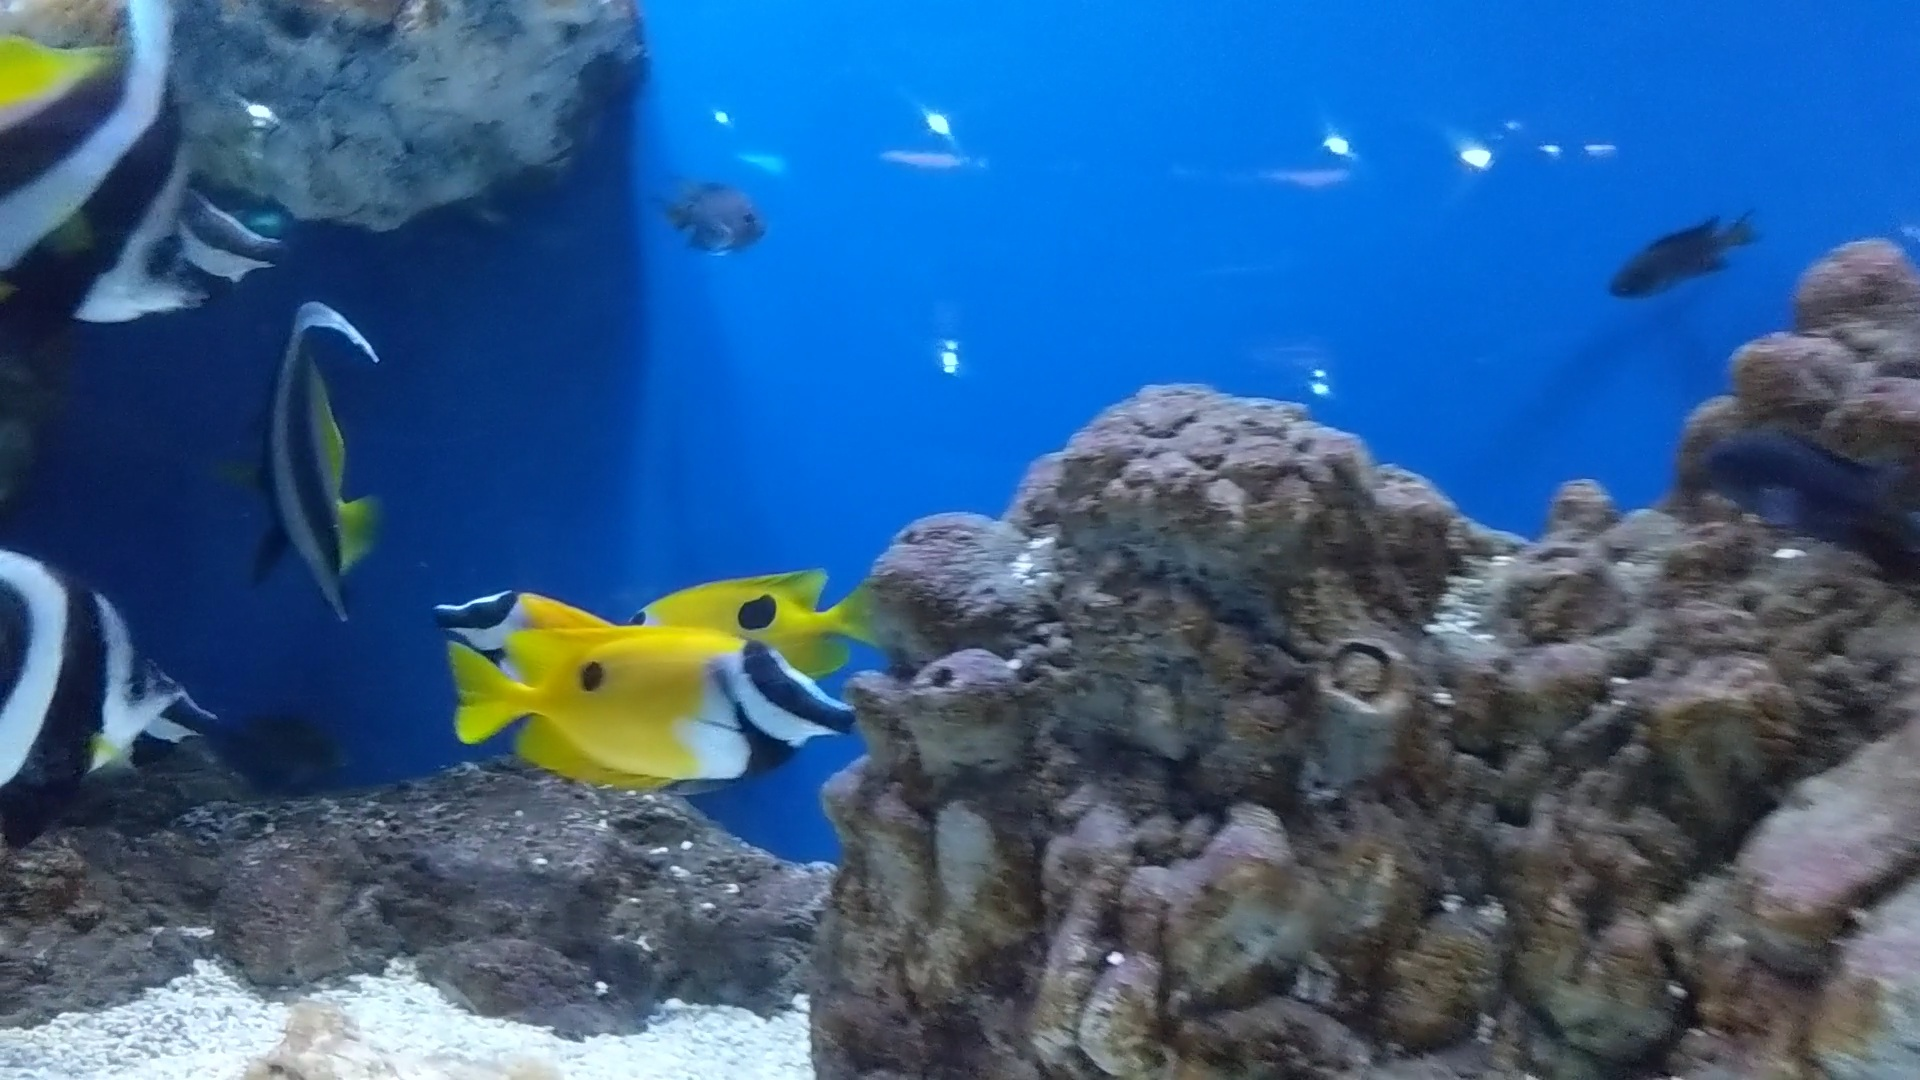moorfish: (255, 294, 409, 657)
rabbitfish: (436, 622, 847, 796), (634, 564, 889, 669)
